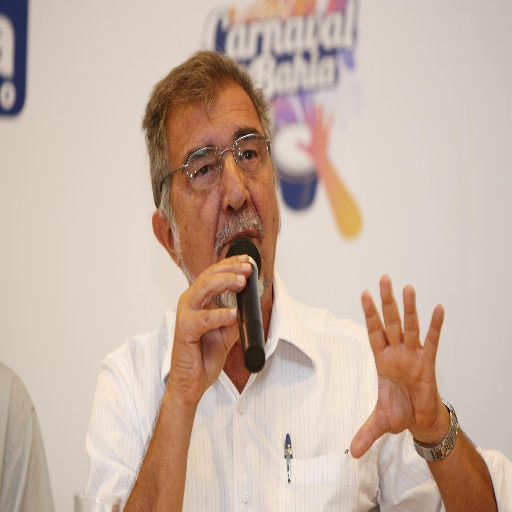hand: (360, 272, 473, 476), (166, 250, 253, 410), (293, 99, 336, 165)
